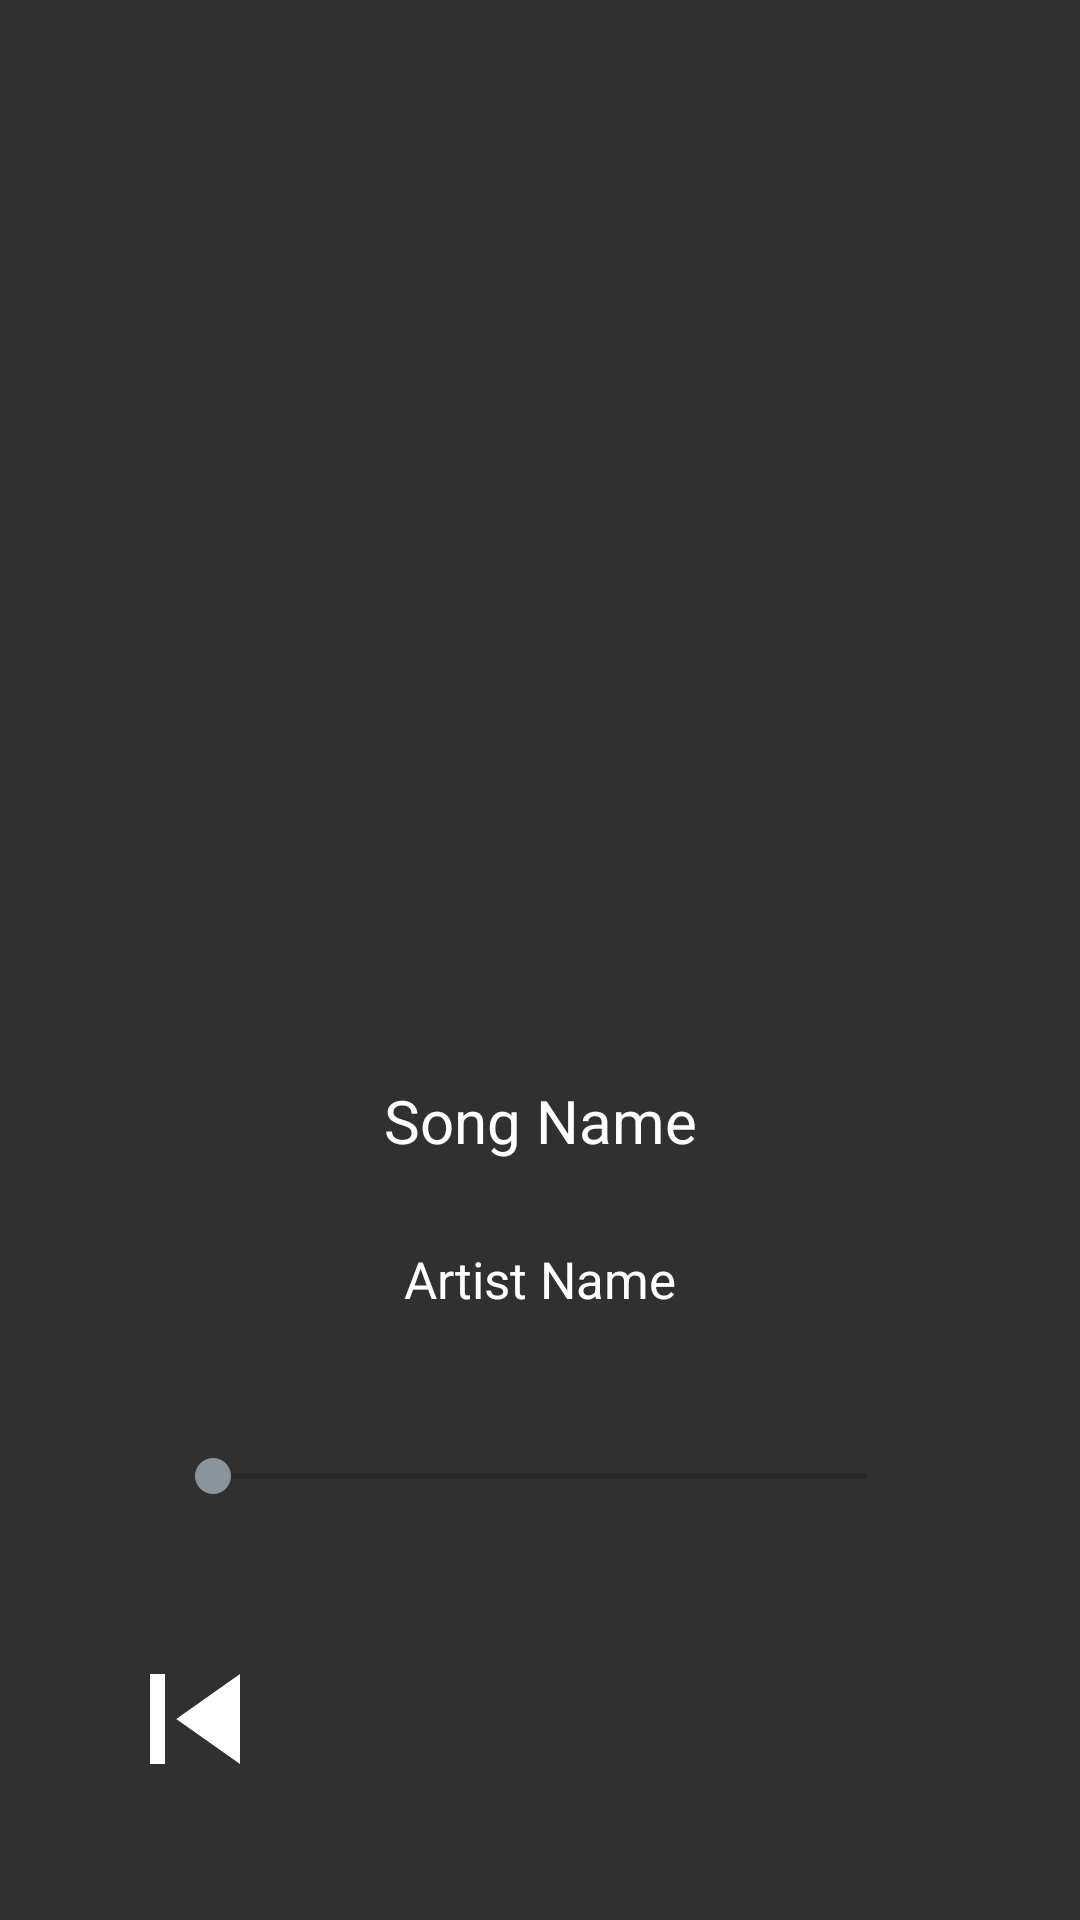

Icons on this 1080*1920 Android screen, each with its box as detection(x1, y1, x2, y2):
previous: detection(150, 1674, 240, 1764)
